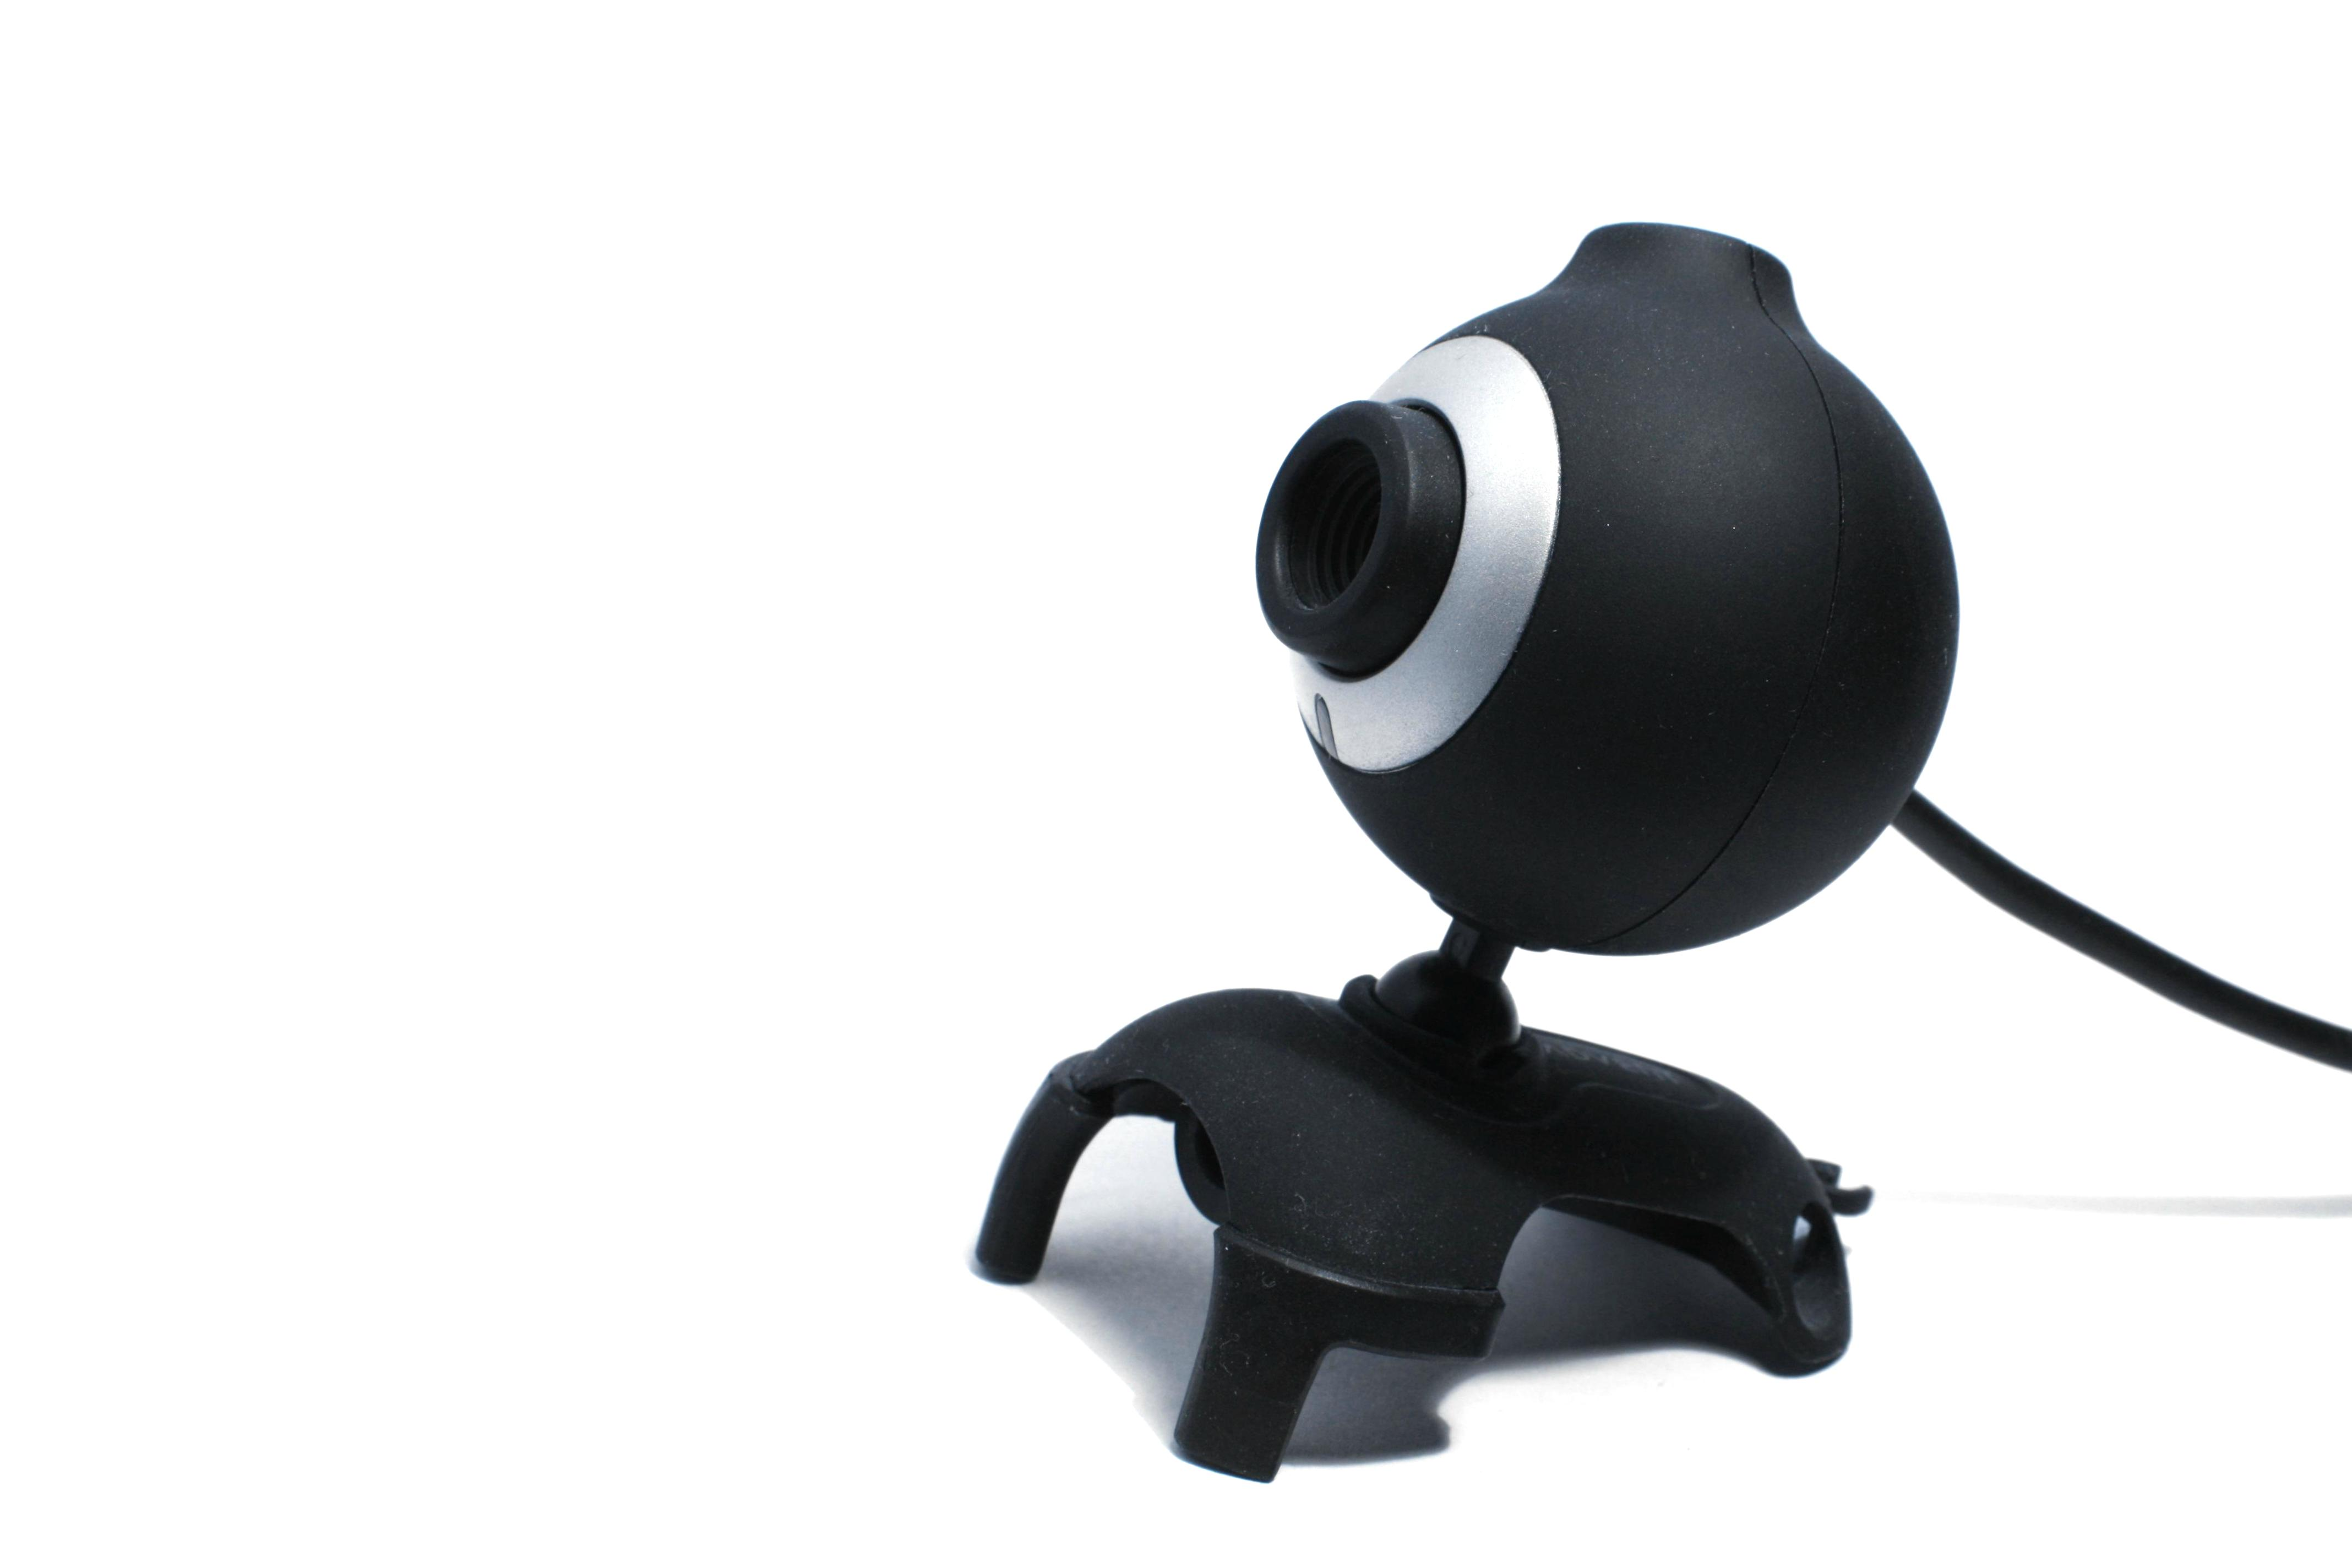webcam: (1188, 199, 2000, 1018)
